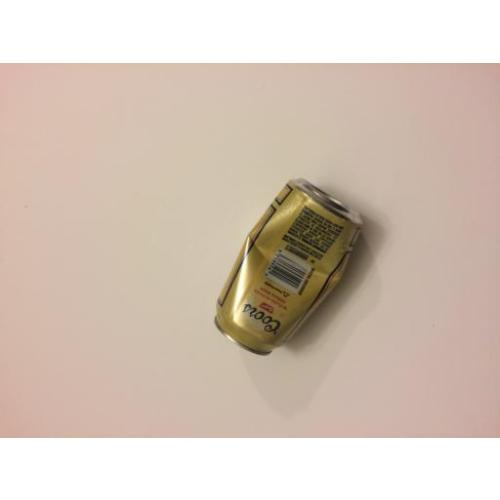metal: (216, 180, 362, 356)
